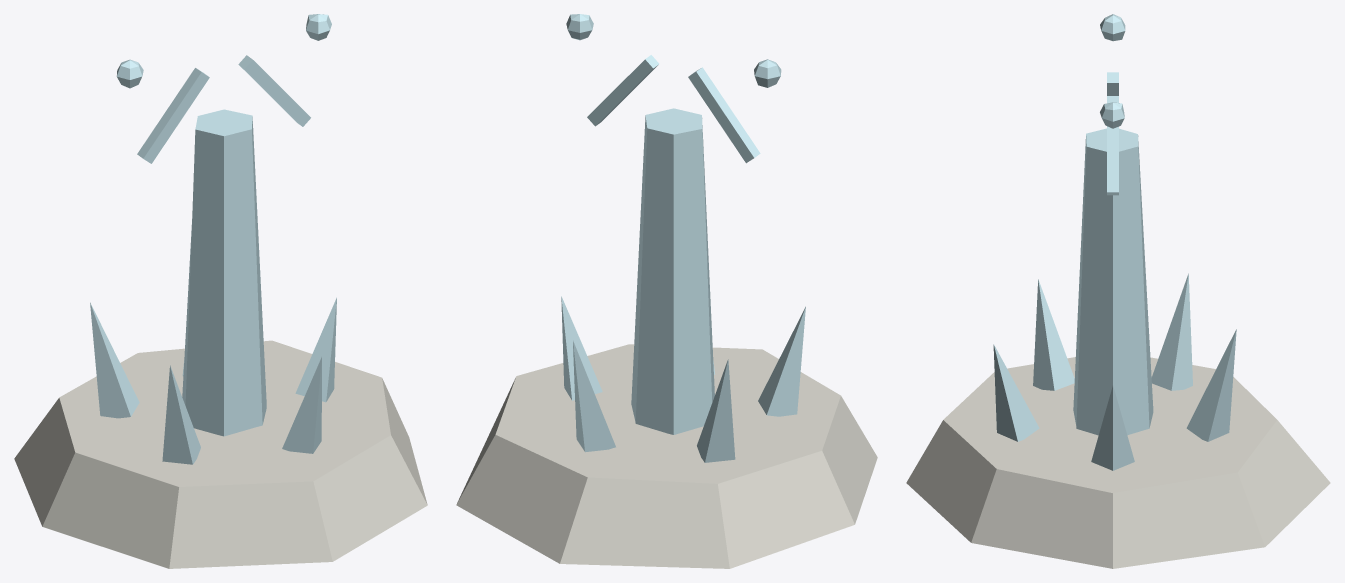
Rendered from tower-frost.glb.
3 renders of one model, left to right at view 1: azimuth 30°, elevation 25°; view 2: azimuth 150°, elevation 25°; view 3: azimuth 270°, elevation 25°, orthographic. The views are drawn at different scales.
Visible parts, largest first — view 1: tower-frost; view 2: tower-frost; view 3: tower-frost.
Boxes of the visible parts, x1=… form: tower-frost: x1=14, y1=14, x2=427, y2=568; tower-frost: x1=456, y1=14, x2=877, y2=568; tower-frost: x1=906, y1=14, x2=1330, y2=568.
Bounding box in the file's own units: 2.03 × 2.35 × 2.13.
